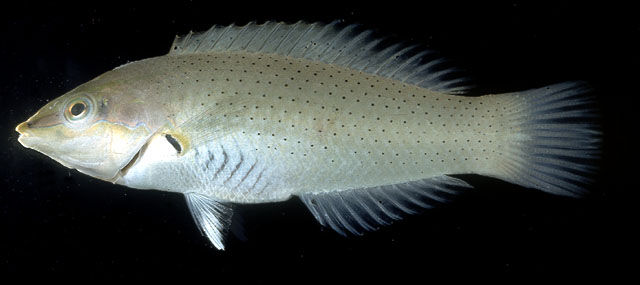fish: (15, 19, 600, 251)
